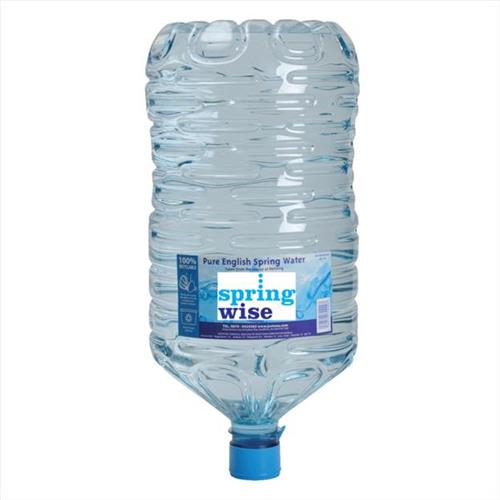Rec_Plastic: (115, 11, 373, 477)
